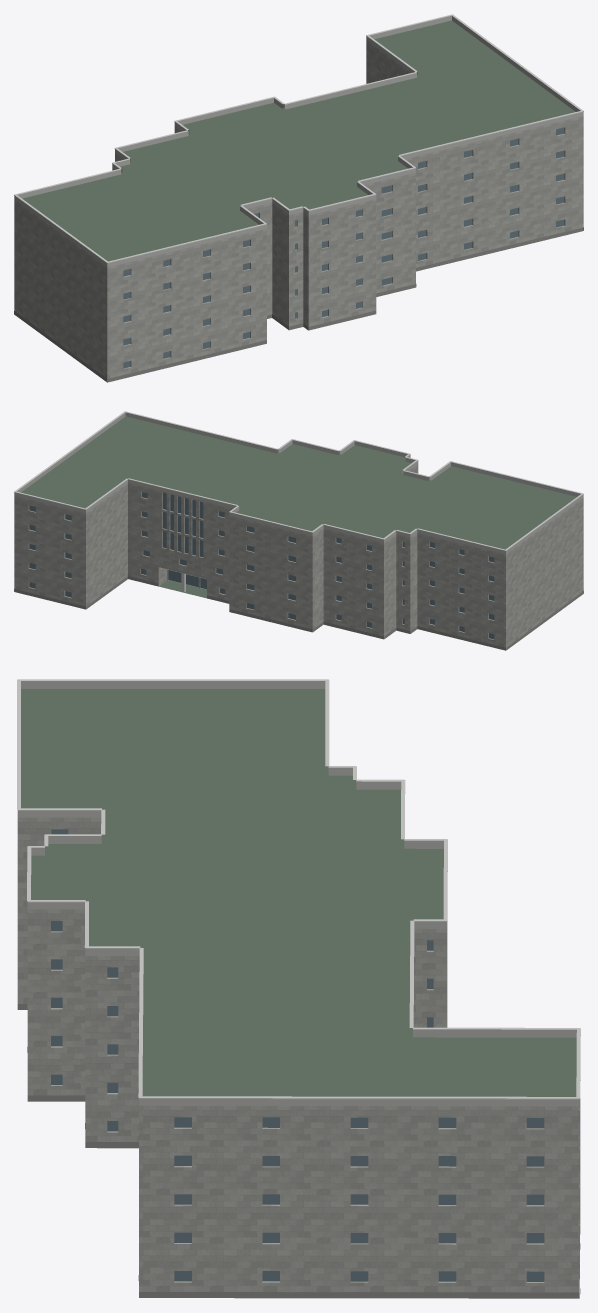
3 renders of one model, top to bottom at view 1: azimuth 30°, elevation 25°; view 2: azimuth 150°, elevation 25°; view 3: azimuth 270°, elevation 25°, orthographic. The views are drawn at different scales.
Parts seen in each view (by area): view 1: law__wall, law__roof, law__parapet, law__trim, law__glass, law__base; view 2: law__wall, law__roof, law__parapet, law__glass, law__trim, law__base; view 3: law__roof, law__wall, law__parapet, law__trim, law__glass, law__base.
Boxes of the visible parts, left/top/right/bottom form: law__wall: left=14, top=40, right=583, bottom=382; law__roof: left=22, top=20, right=575, bottom=261; law__parapet: left=14, top=15, right=583, bottom=267; law__trim: left=14, top=14, right=583, bottom=263; law__glass: left=123, top=127, right=564, bottom=368; law__base: left=14, top=227, right=583, bottom=382; law__wall: left=14, top=464, right=583, bottom=650; law__roof: left=21, top=416, right=576, bottom=598; law__parapet: left=14, top=412, right=583, bottom=554; law__glass: left=29, top=492, right=494, bottom=639; law__trim: left=14, top=411, right=583, bottom=550; law__base: left=14, top=576, right=583, bottom=650; law__roof: left=21, top=689, right=576, bottom=1298; law__wall: left=17, top=817, right=580, bottom=1292; law__parapet: left=17, top=681, right=579, bottom=1106; law__trim: left=17, top=679, right=580, bottom=1099; law__glass: left=51, top=829, right=544, bottom=1281; law__base: left=17, top=1004, right=580, bottom=1298.
Bounding box in the file's own units: 88.95 × 19.82 × 50.55.
Materials: 9 (1 with a texture image).
